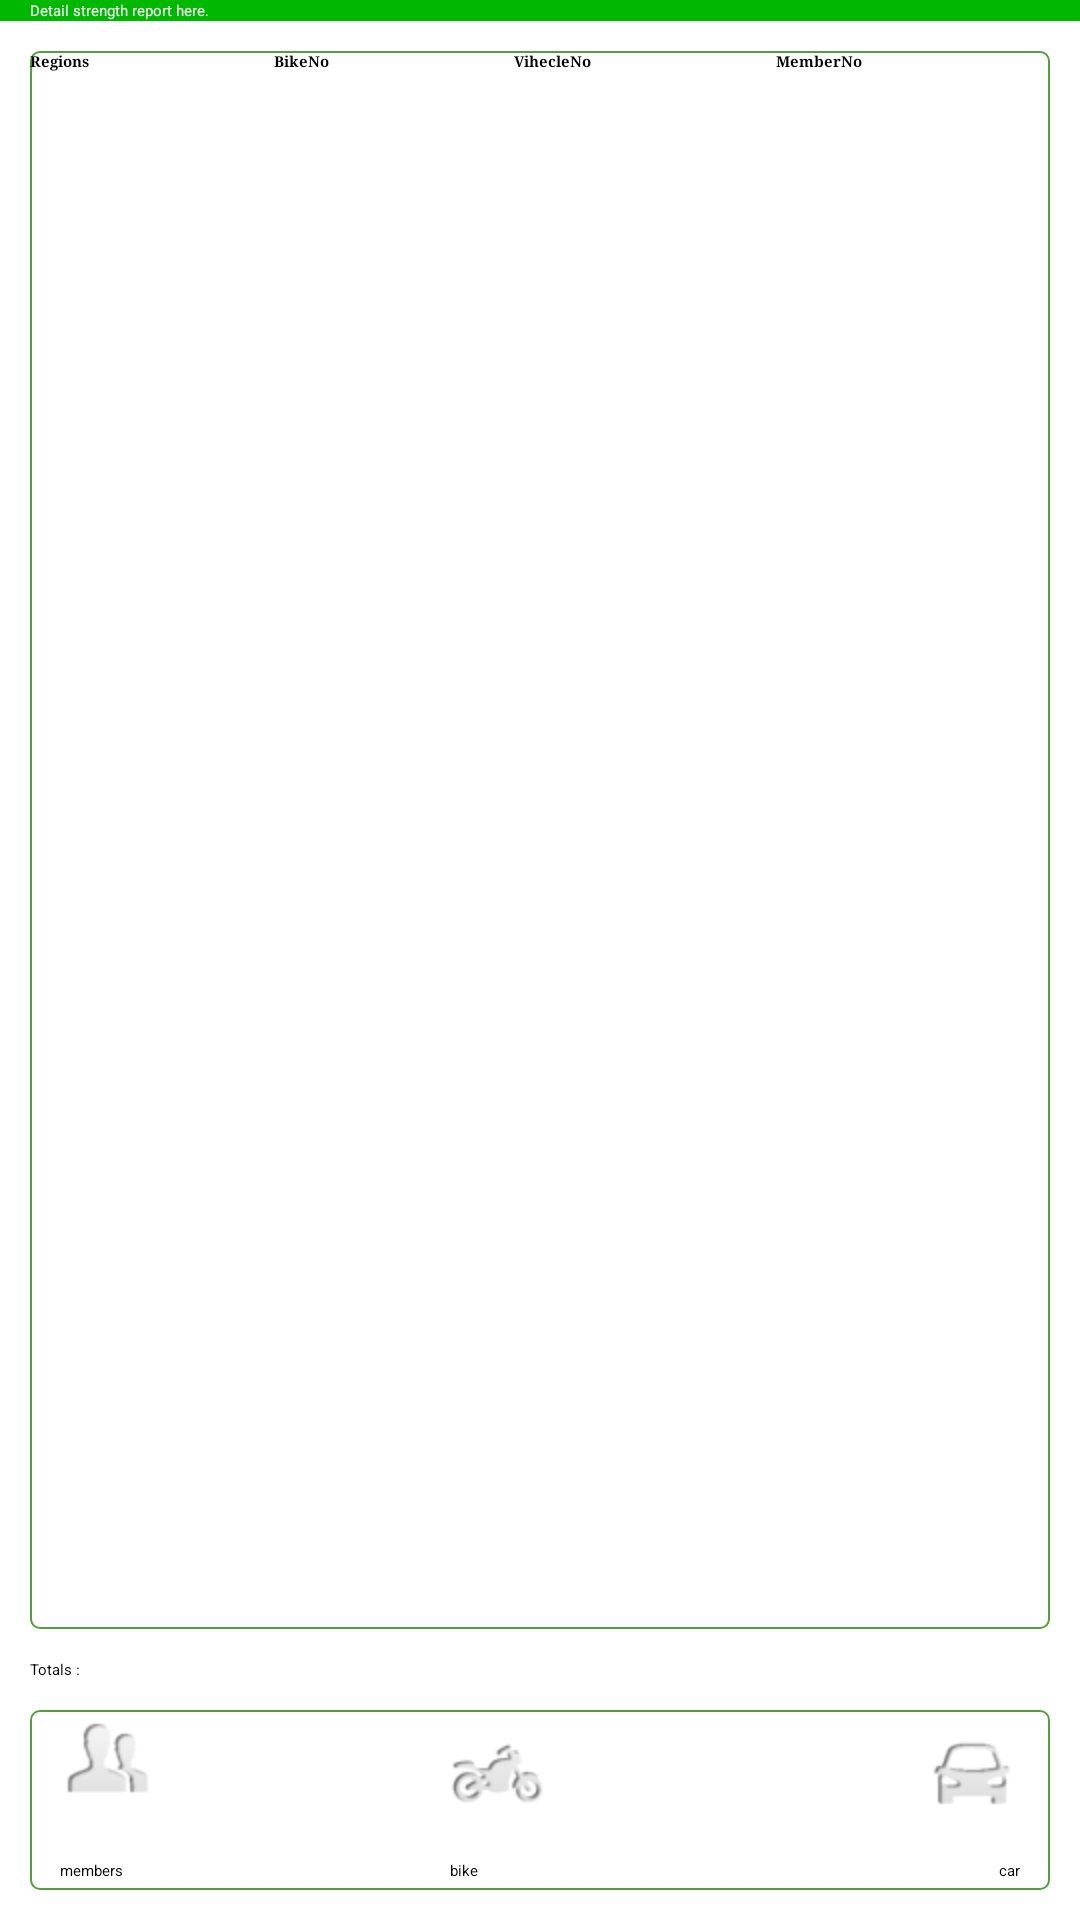

Icon click points for this 1080×1920 phone screenshot, format point (x, y):
list car: point (971, 1773)
list motorcycle: point (497, 1773)
list person: point (106, 1758)
